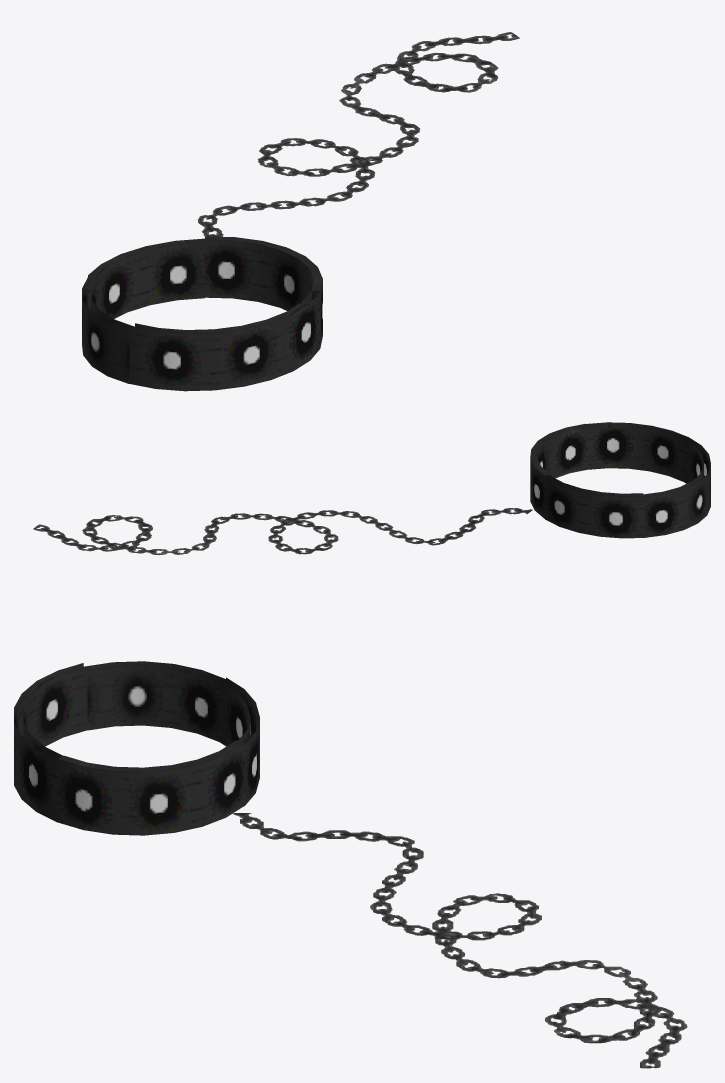
File: dog_collar.FBX
3 renders of one model, top to bottom at view 1: azimuth 30°, elevation 25°; view 2: azimuth 150°, elevation 25°; view 3: azimuth 270°, elevation 25°, orthographic. The views are drawn at different scales.
Visible parts, largest first — view 1: dog_collar; view 2: dog_collar; view 3: dog_collar.
Part boxes in pixels (<box>): dog_collar: <box>82,32,519,391</box>; dog_collar: <box>33,422,710,554</box>; dog_collar: <box>14,661,687,1068</box>.
Bounding box in the file's own units: 90.89 × 7.72 × 75.97.
